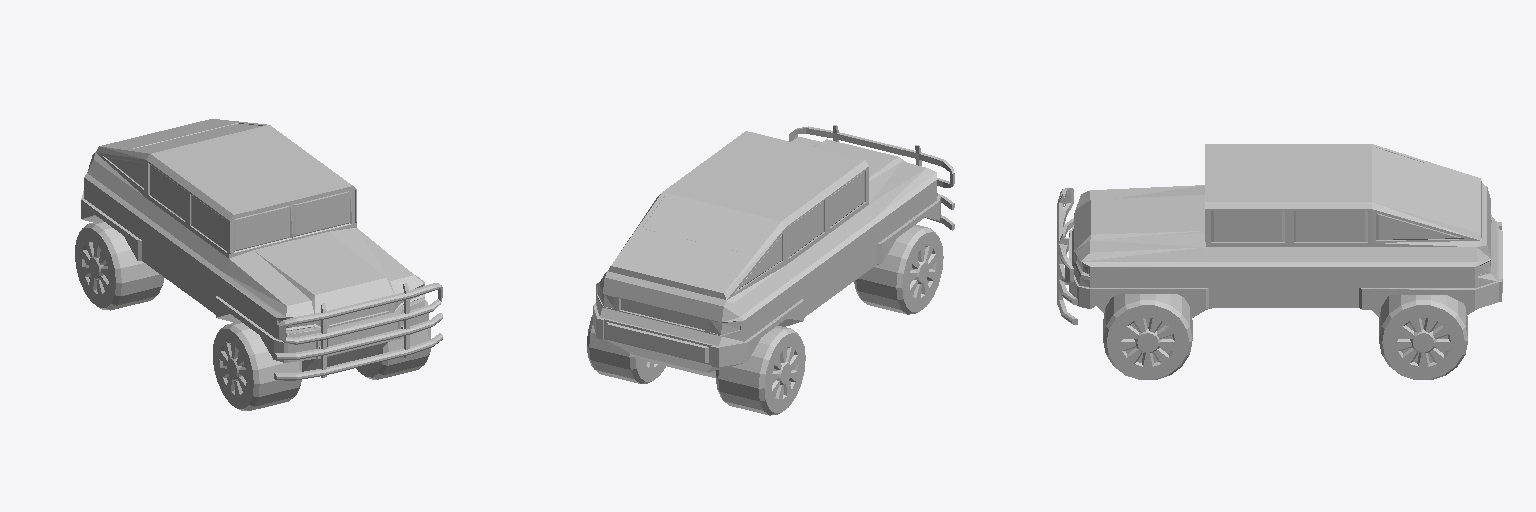
The model's file is CarUVMap.obj.
3 views of the same model, side by side, from view 1: azimuth 30°, elevation 25°; view 2: azimuth 150°, elevation 25°; view 3: azimuth 270°, elevation 25° (orthographic).
Visible parts, largest first — view 1: Cylinder002; view 2: Cylinder002; view 3: Cylinder002.
Boxes of the visible parts, <box> form: Cylinder002: <box>75,119,442,410</box>; Cylinder002: <box>587,125,954,415</box>; Cylinder002: <box>1057,144,1502,379</box>.
Size of the model in its own units: 150 by 132 by 321.